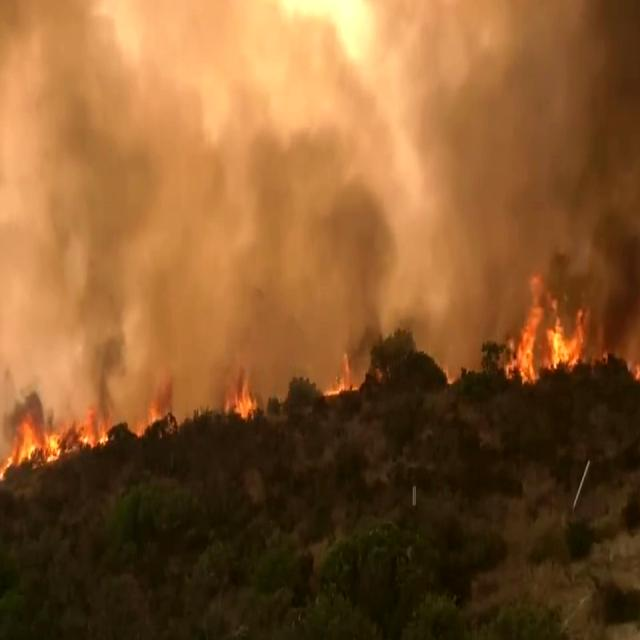fire: (516, 252, 604, 368), (0, 389, 117, 474)
smoke: (0, 6, 130, 370)
